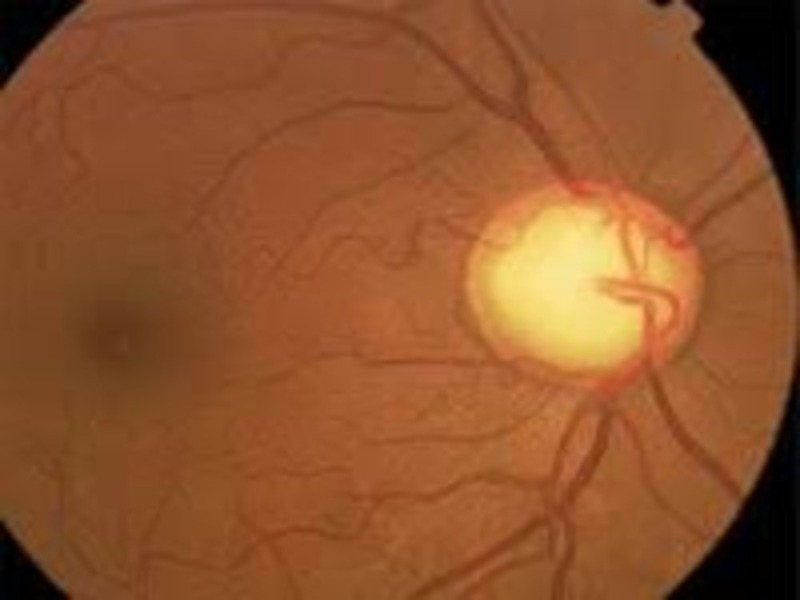Optic Cup: (493, 212, 655, 344)
Optic Disc: (464, 184, 713, 388)
